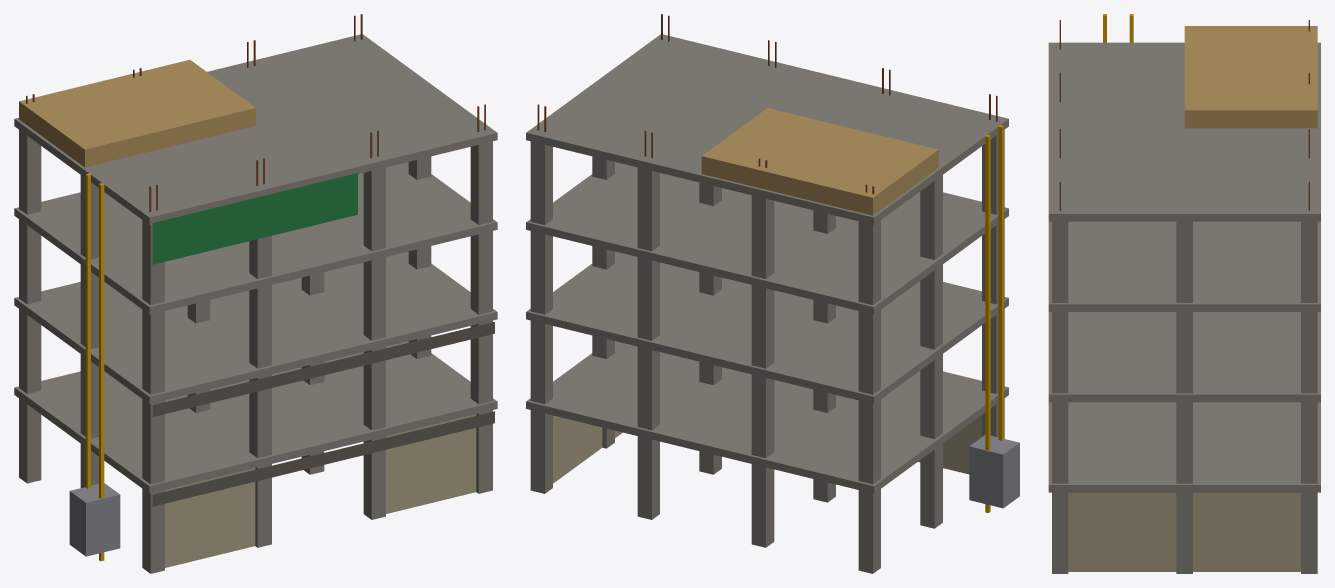
The model's file is building_site-frame.glb.
The picture shows the model from 3 angles, left to right: view 1: azimuth 30°, elevation 25°; view 2: azimuth 150°, elevation 25°; view 3: azimuth 270°, elevation 25°; orthographic projection.
Visible parts, largest first — view 1: body; view 2: body; view 3: body.
Boxes of the visible parts, box(x1,y1,x2,y2) form: body: box(14, 14, 497, 573); body: box(526, 14, 1019, 573); body: box(1048, 14, 1320, 573).
Size of the model in its own units: 13.5 by 12.85 by 8.22.
